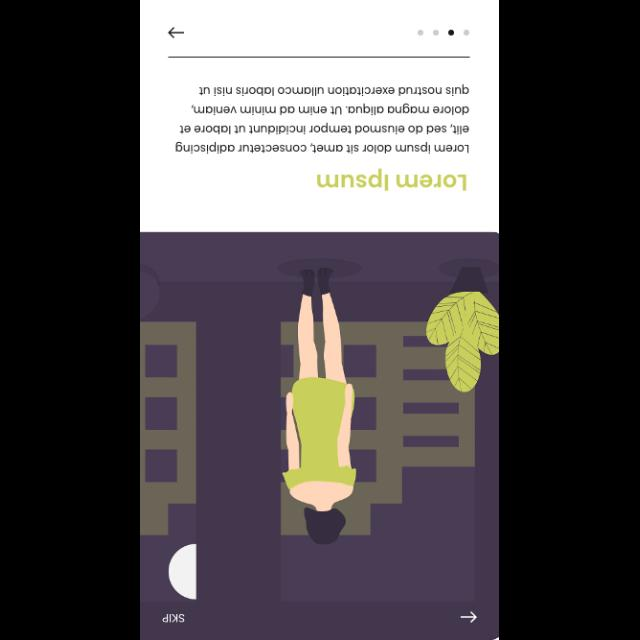icon: (168, 26, 185, 40), (460, 610, 478, 622)
image: (141, 232, 499, 638)
pageindicator: (416, 29, 469, 36)
text: (175, 84, 470, 154), (317, 167, 467, 191), (162, 612, 184, 622)
